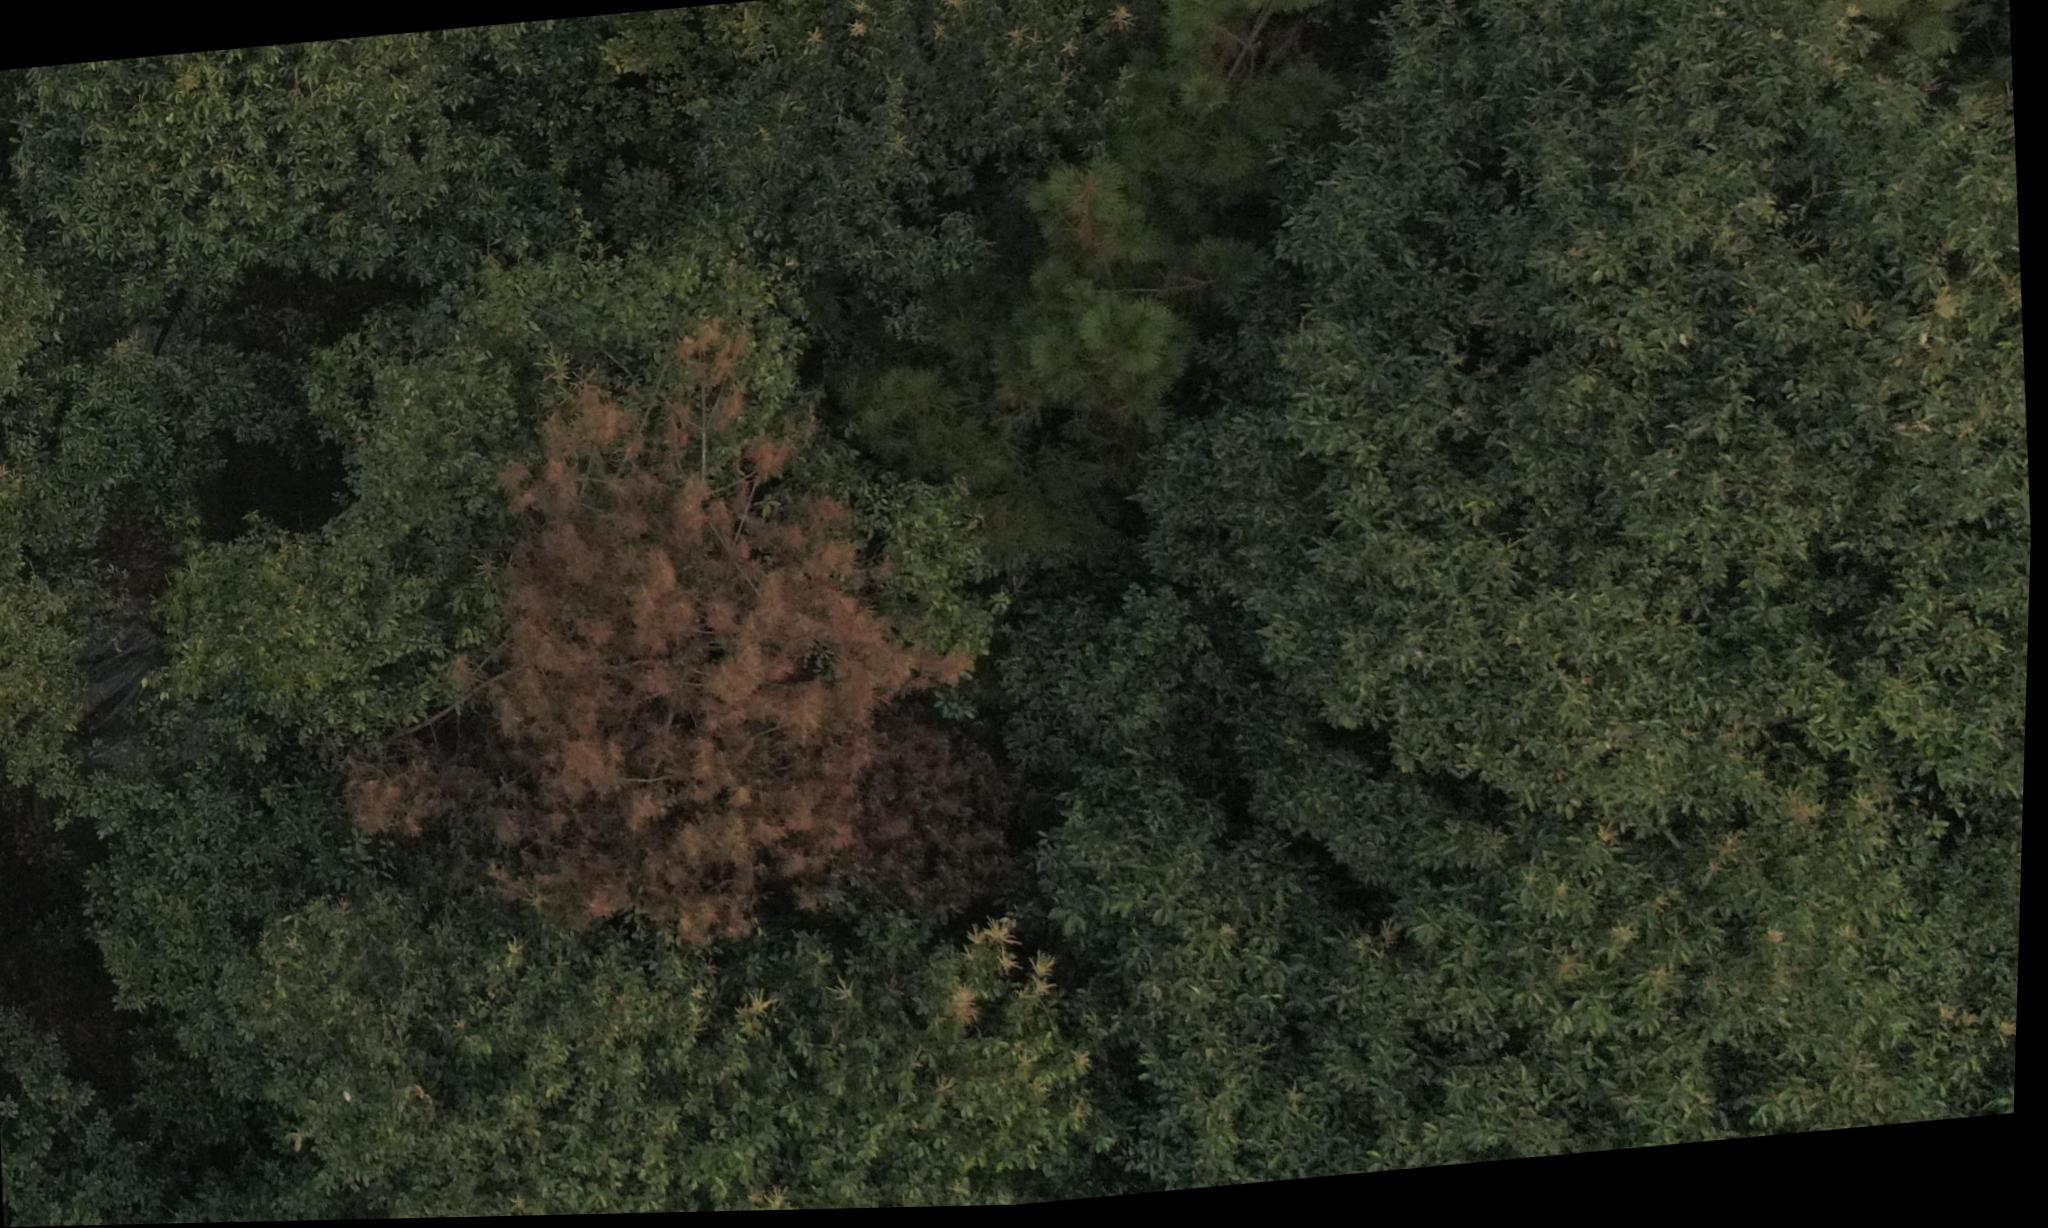heavy: (316, 325, 971, 944)
